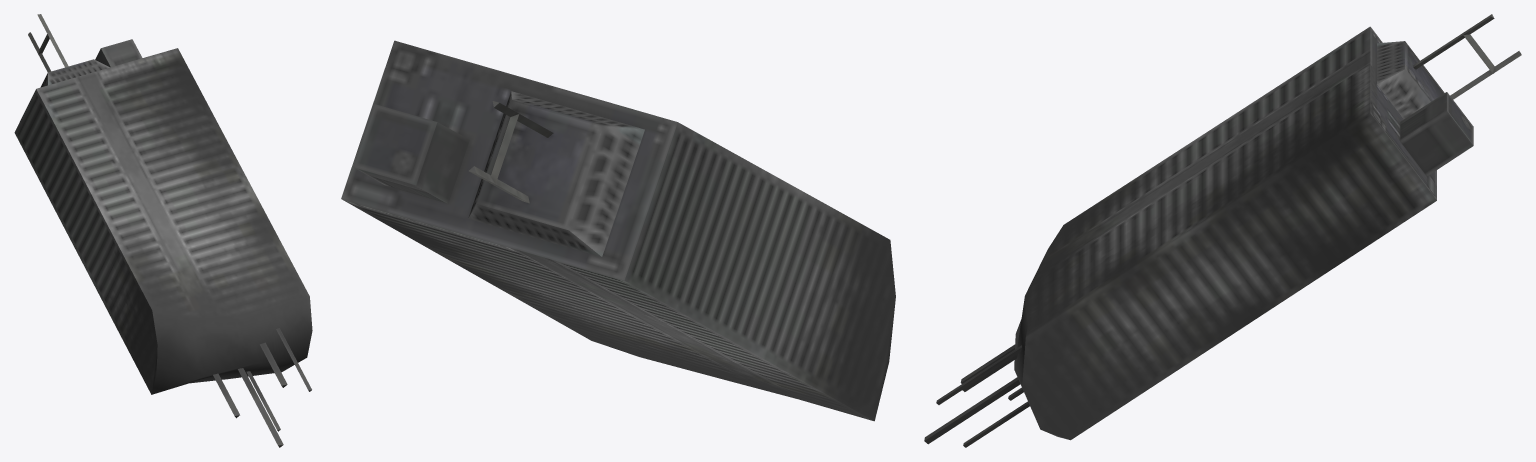
File: skyBuildingAAC_pos_grp (26).fbx
3 renders of one model, left to right at view 1: azimuth 30°, elevation 25°; view 2: azimuth 150°, elevation 25°; view 3: azimuth 270°, elevation 25°, orthographic. The views are drawn at different scales.
Parts seen in each view (by area): view 1: skyBuildingAAC_geo; view 2: skyBuildingAAC_geo; view 3: skyBuildingAAC_geo.
Boxes of the visible parts, x1,y1,x2,y2 form: skyBuildingAAC_geo: (14, 14, 312, 447); skyBuildingAAC_geo: (341, 40, 895, 421); skyBuildingAAC_geo: (924, 14, 1521, 447).
Bounding box in the file's own units: 4.7 × 8.68 × 11.62.
